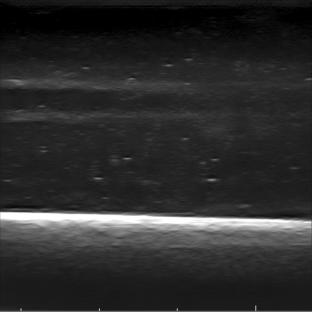vessel: (0, 77, 157, 124)
